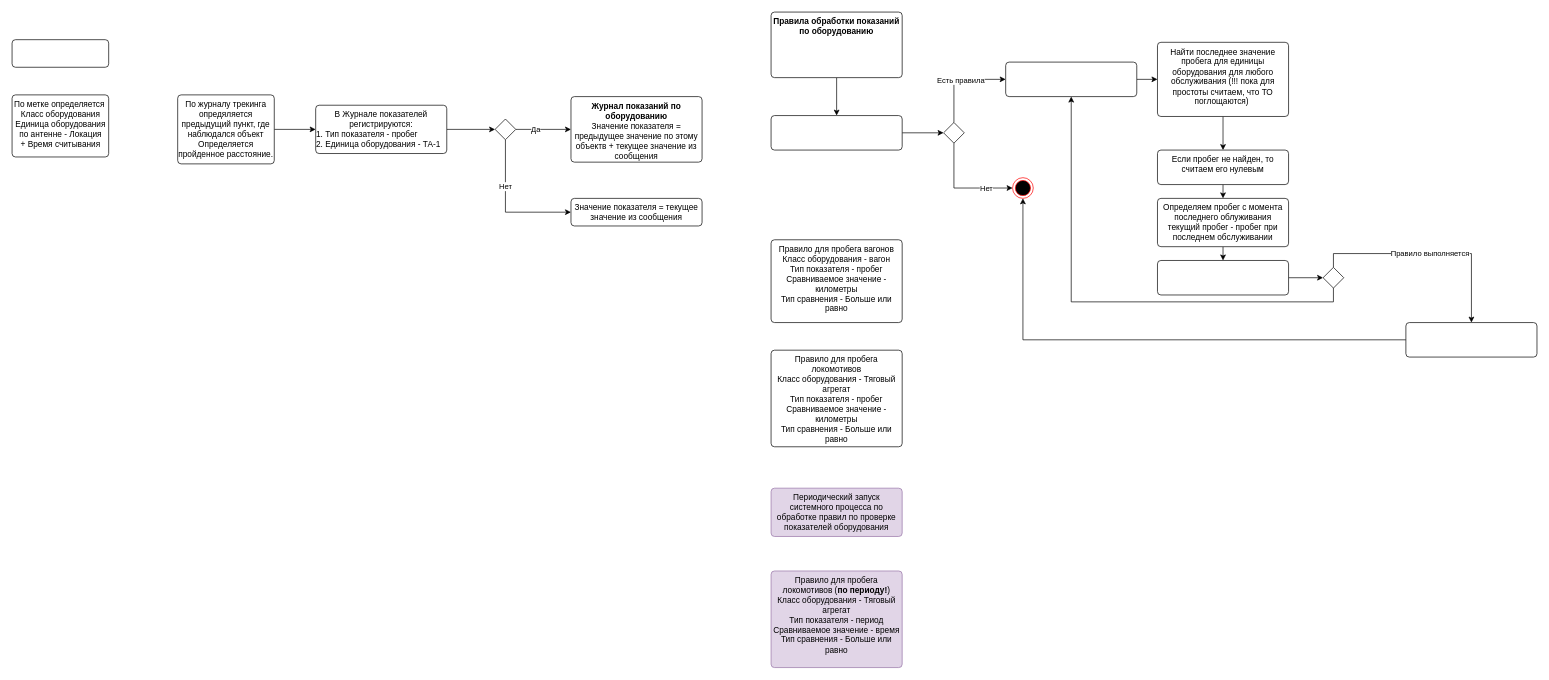
This 1549x680 diagram has some shape labels left out. The centre of each missing label's shape, as x and y in pixels:
Выполняем действия по результатам выполнения правила: pixel 1471 339
Делаем выборку по правилам для этого класса оборудования и этого типа показателя: pixel 836 132
Правила для единицы оборудования обрабытываются в цикле: pixel 1071 79
Применяем правило сравнения показаний пробегов: pixel 1223 277
Считана метка на вагоне: pixel 60 53
Тип показателя = "пробег": pixel 505 129
